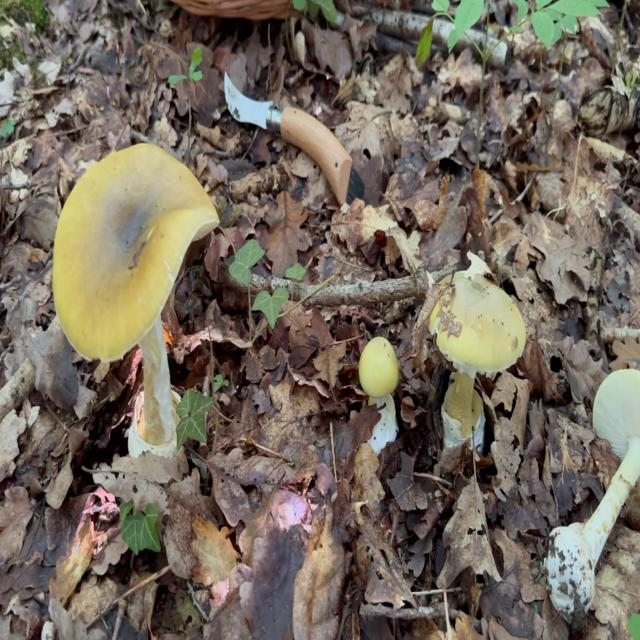death-cap: (51, 142, 221, 458), (429, 271, 526, 455), (359, 336, 399, 457)
